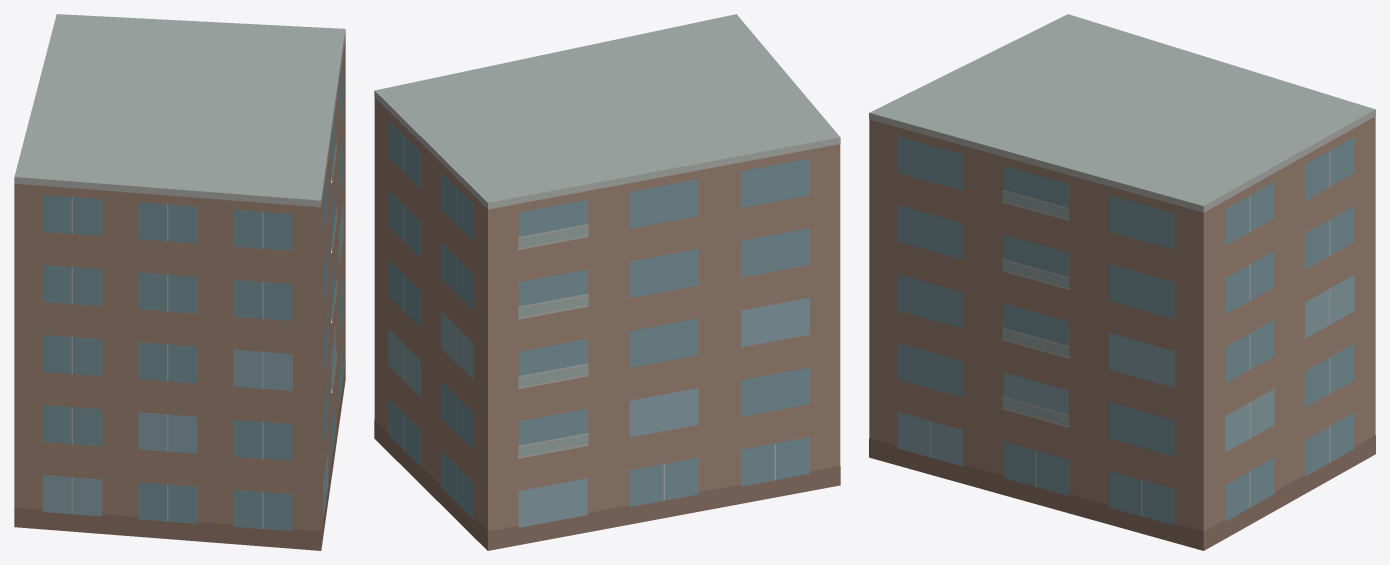
Rendered from survey-upis-32959945.glb.
3 views of the same model, side by side, from view 1: azimuth 30°, elevation 25°; view 2: azimuth 150°, elevation 25°; view 3: azimuth 270°, elevation 25° (orthographic).
Visible parts, largest first — view 1: survey-upis-32959945.tmp; view 2: survey-upis-32959945.tmp; view 3: survey-upis-32959945.tmp.
Part boxes in pixels (<box>): survey-upis-32959945.tmp: <box>14,14,345,550</box>; survey-upis-32959945.tmp: <box>374,14,840,550</box>; survey-upis-32959945.tmp: <box>869,14,1375,550</box>.
Bounding box in the file's own units: 15.31 × 12.8 × 17.06.
